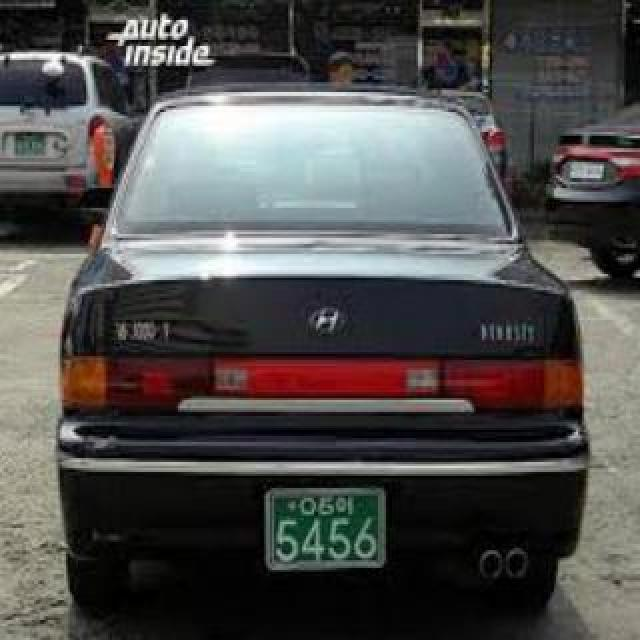car: (55, 84, 592, 622)
illegal_plate: (254, 473, 393, 585)
